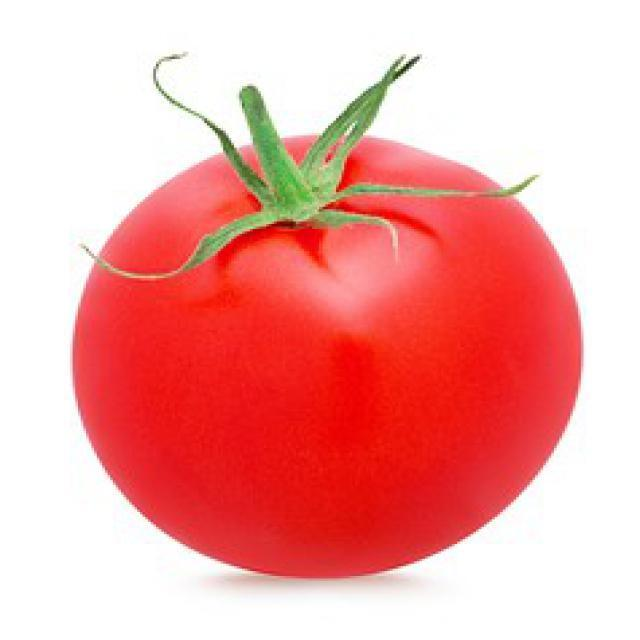Tomato: (70, 54, 584, 583)
